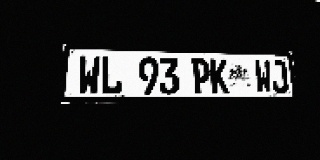3: (159, 57, 179, 94)
9: (139, 57, 159, 94)
J: (270, 60, 289, 93)
K: (210, 59, 229, 94)
L: (101, 56, 122, 95)
P: (191, 58, 211, 94)
W: (77, 55, 101, 95), (254, 60, 273, 93)
